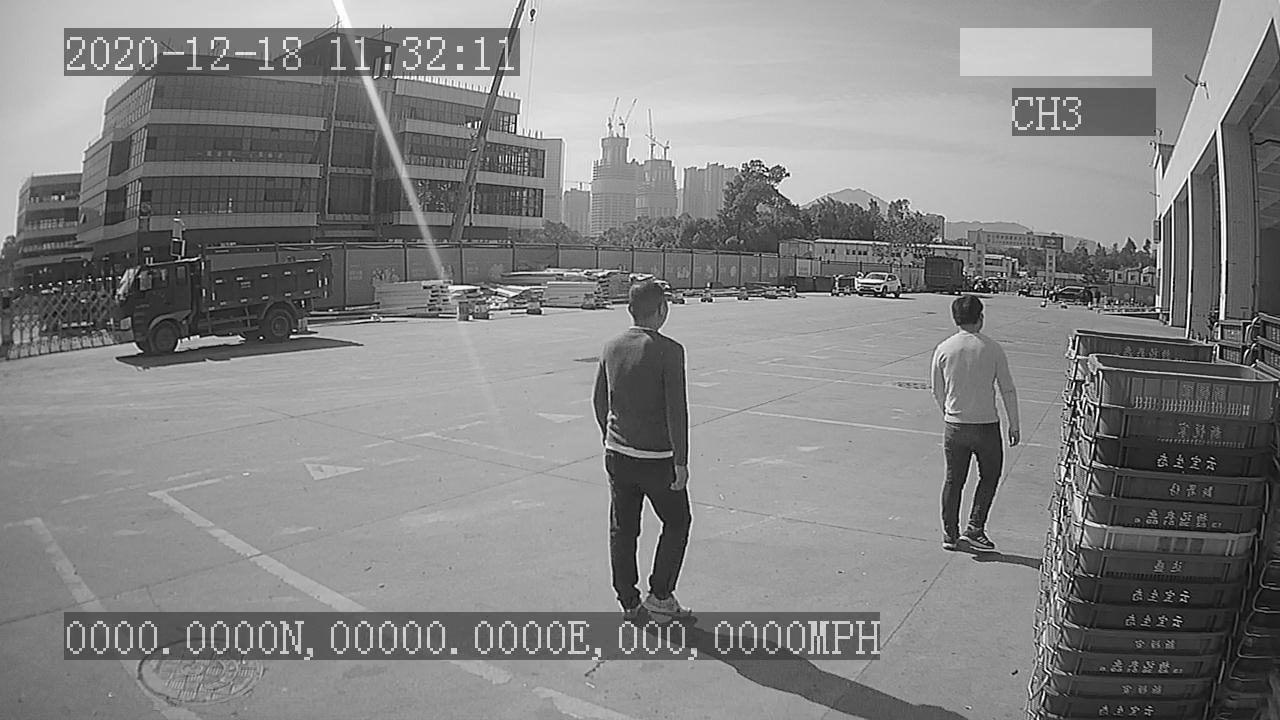person: (925, 290, 1023, 557)
